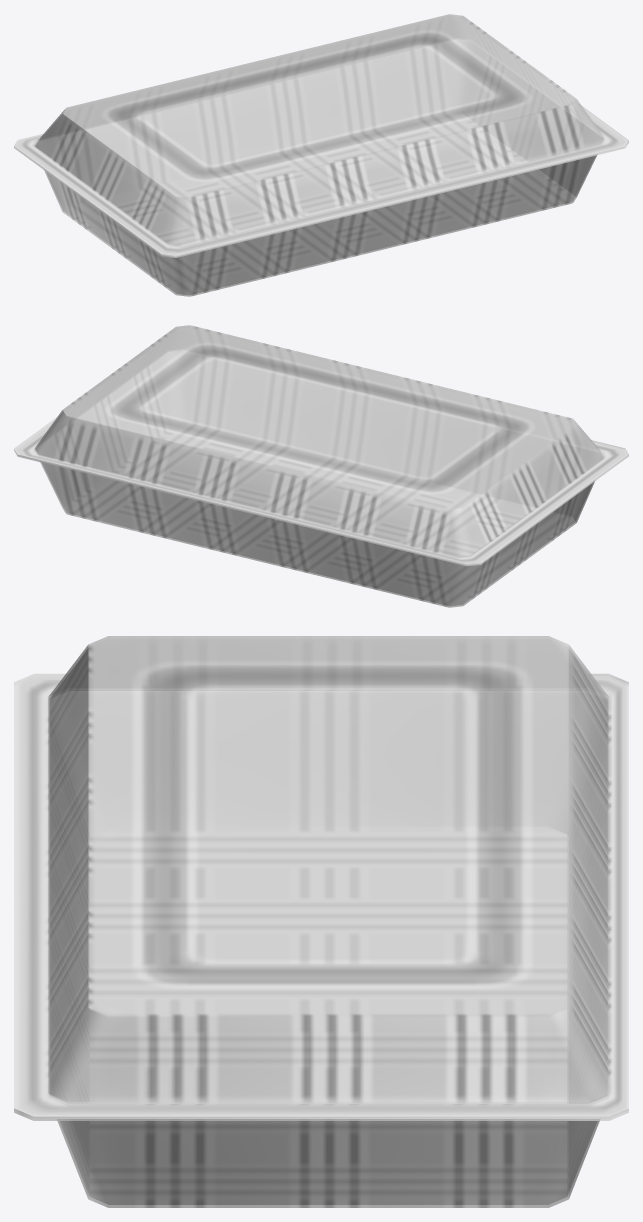
File: jsf_Pack_Empty.fbx
The picture shows the model from 3 angles, top to bottom: view 1: azimuth 30°, elevation 25°; view 2: azimuth 150°, elevation 25°; view 3: azimuth 270°, elevation 25°; orthographic projection. The views are drawn at different scales.
Visible parts, largest first — view 1: Pack, Lid; view 2: Pack, Lid; view 3: Pack, Lid.
Part boxes in pixels (<box>): Pack: <box>14,39,628,296</box>; Lid: <box>14,14,628,256</box>; Pack: <box>14,350,628,607</box>; Lid: <box>14,325,628,565</box>; Pack: <box>14,676,628,1207</box>; Lid: <box>14,636,628,1118</box>.
Size of the model in its own units: 21.3 by 4.3 by 12.5.
